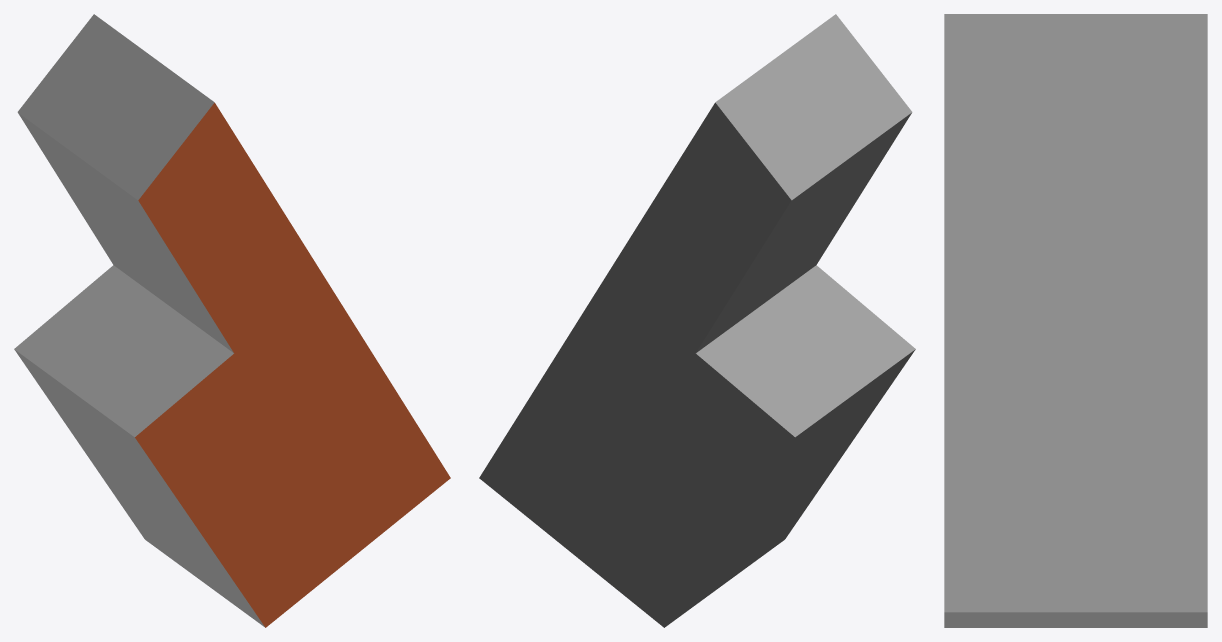
The model's file is construction_5163_assumed_A_Casa_h6m.obj.
3 views of the same model, side by side, from view 1: azimuth 30°, elevation 25°; view 2: azimuth 150°, elevation 25°; view 3: azimuth 270°, elevation 25° (orthographic). The views are drawn at different scales.
Visible parts, largest first — view 1: construction_5163_assumed_A_Casa; view 2: construction_5163_assumed_A_Casa; view 3: construction_5163_assumed_A_Casa.
Part boxes in pixels (left/top/right/bottom): construction_5163_assumed_A_Casa: left=14, top=14, right=450, bottom=627; construction_5163_assumed_A_Casa: left=479, top=14, right=915, bottom=627; construction_5163_assumed_A_Casa: left=944, top=14, right=1207, bottom=627.
Size of the model in its own units: 9.07 by 14.75 by 6.
